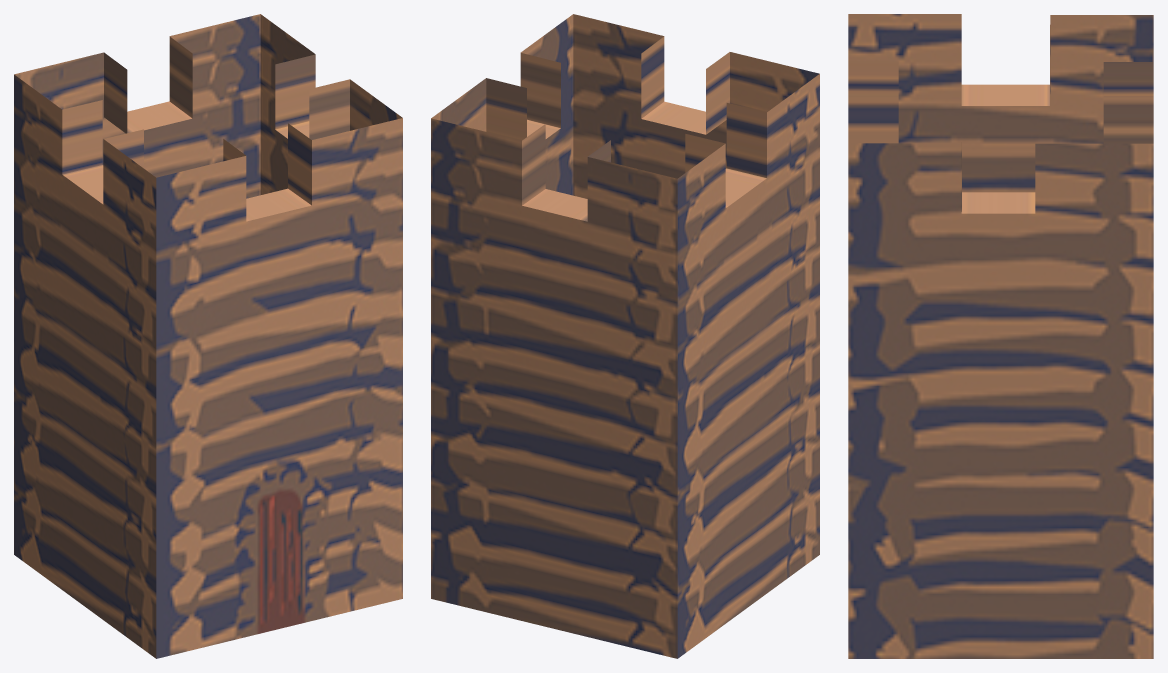
File: Wieza 3.fbx
3 views of the same model, side by side, from view 1: azimuth 30°, elevation 25°; view 2: azimuth 150°, elevation 25°; view 3: azimuth 270°, elevation 25° (orthographic). The views are drawn at different scales.
Parts seen in each view (by area): view 1: Cube.029; view 2: Cube.029; view 3: Cube.029.
Part boxes in pixels (<box>): Cube.029: <box>14,14,402,658</box>; Cube.029: <box>431,14,819,658</box>; Cube.029: <box>848,14,1153,658</box>.
Bounding box in the file's own units: 22166 × 41343 × 22166.
